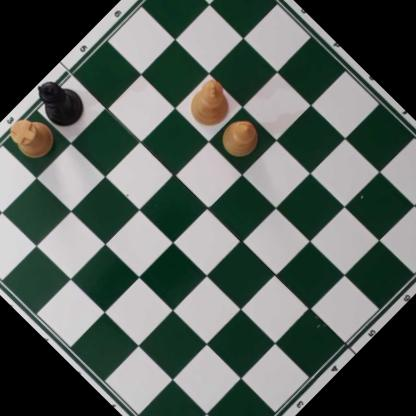black-king: (26, 70, 93, 137)
white-bishop: (215, 112, 266, 163)
white-king: (181, 74, 241, 134)
white-rook: (3, 108, 61, 166)
